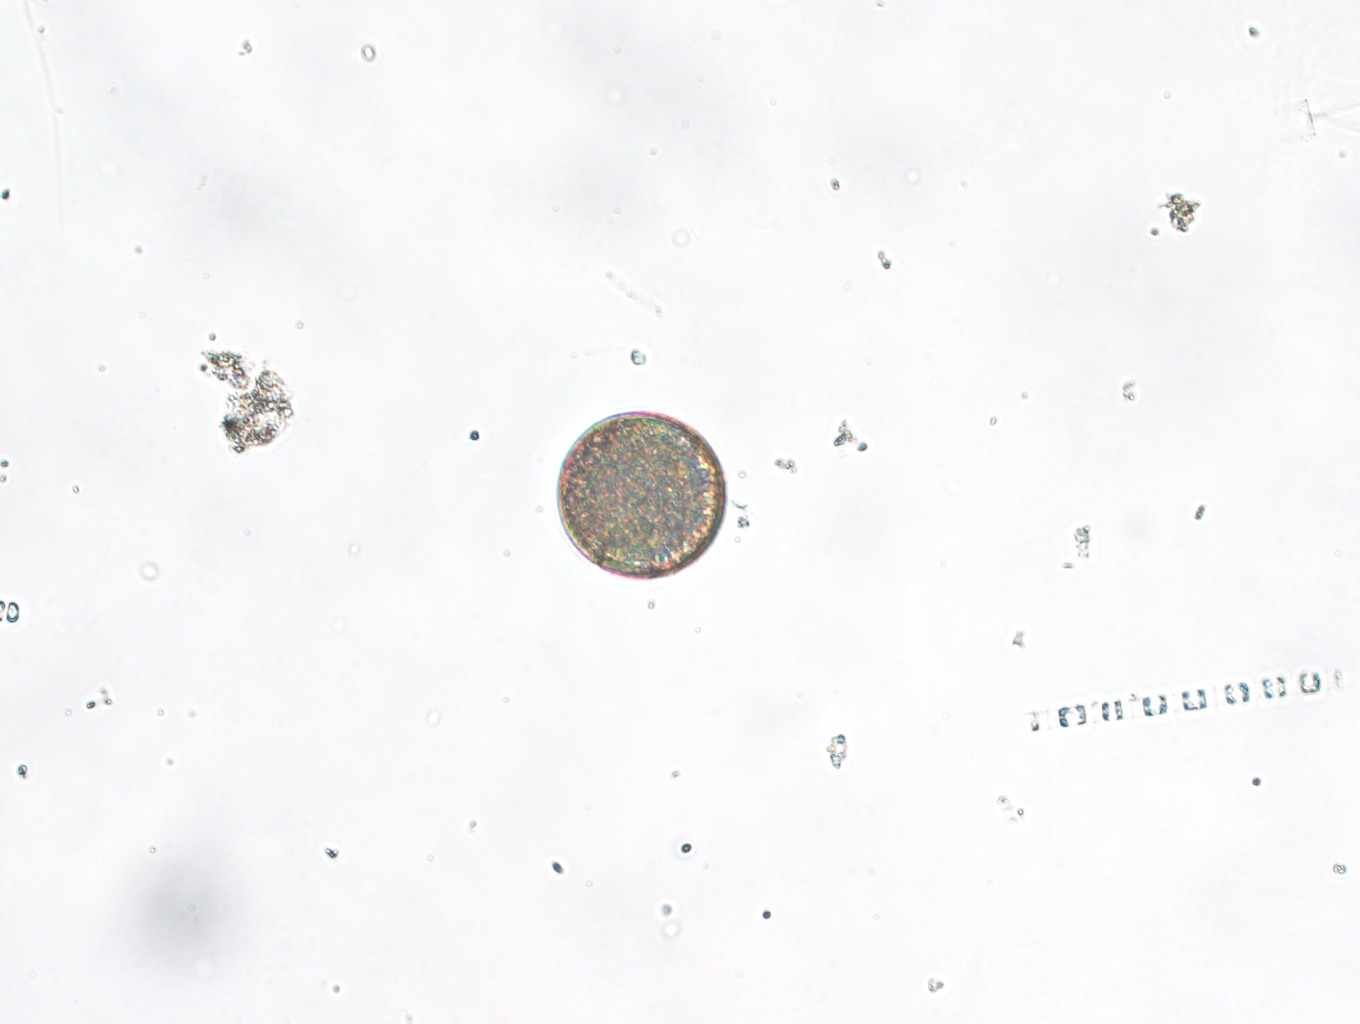coscinodiscus: (556, 411, 727, 581)
skeletonema: (1020, 663, 1346, 736)
